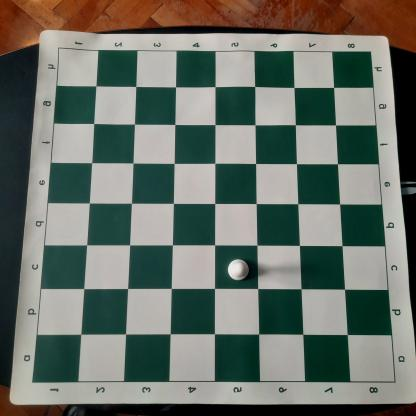white-pawn: (226, 258, 251, 282)
